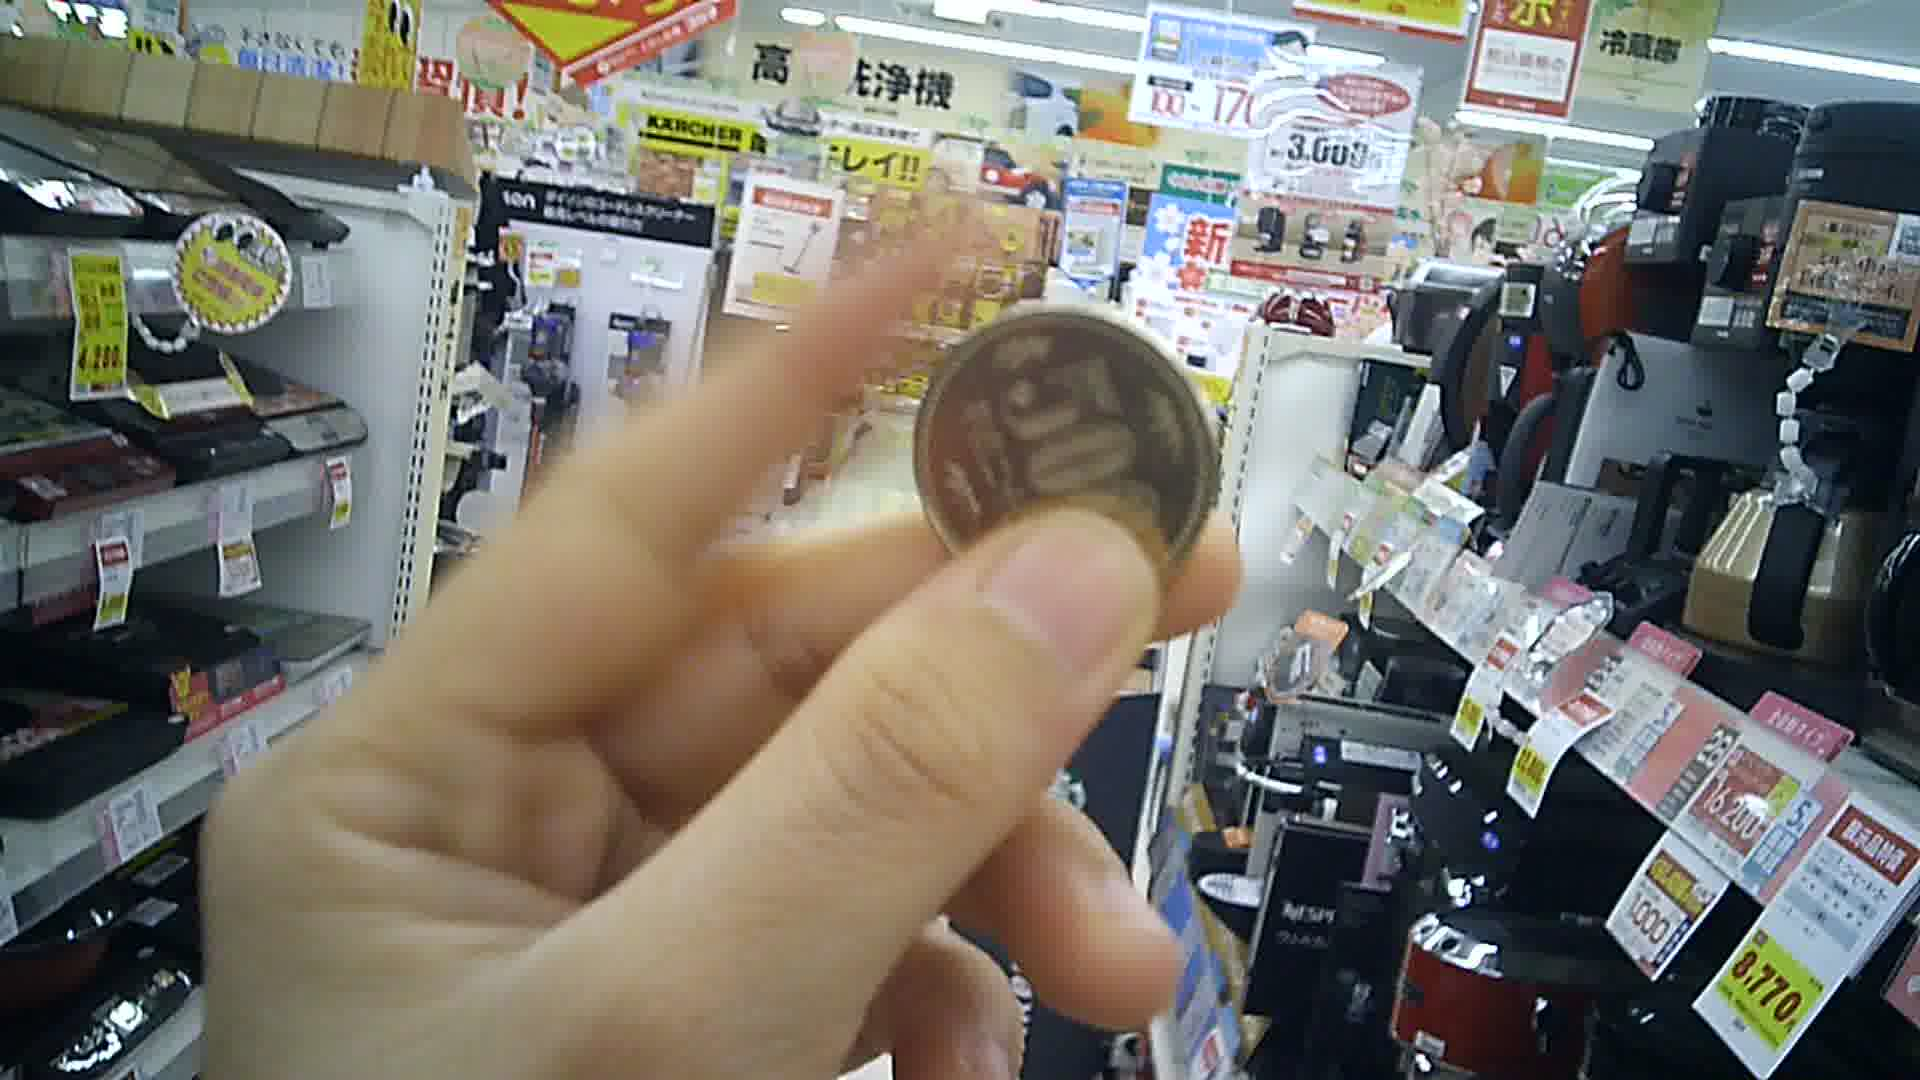500 Yen: (909, 309, 1215, 578)
